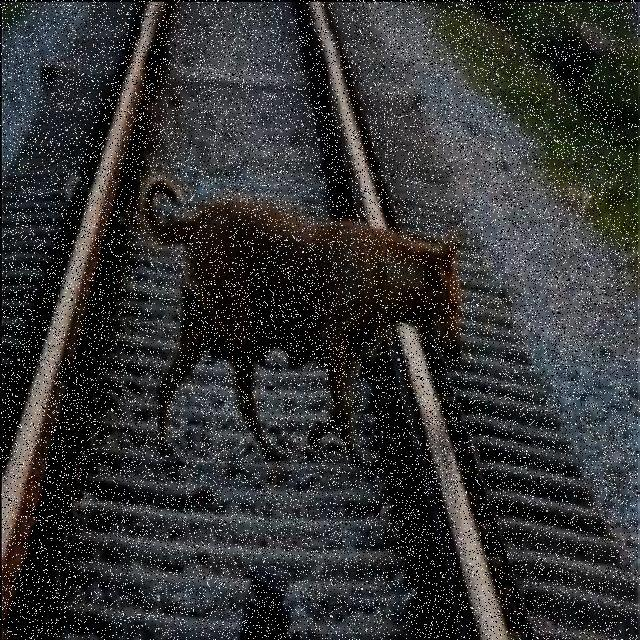rail: (4, 1, 639, 640)
